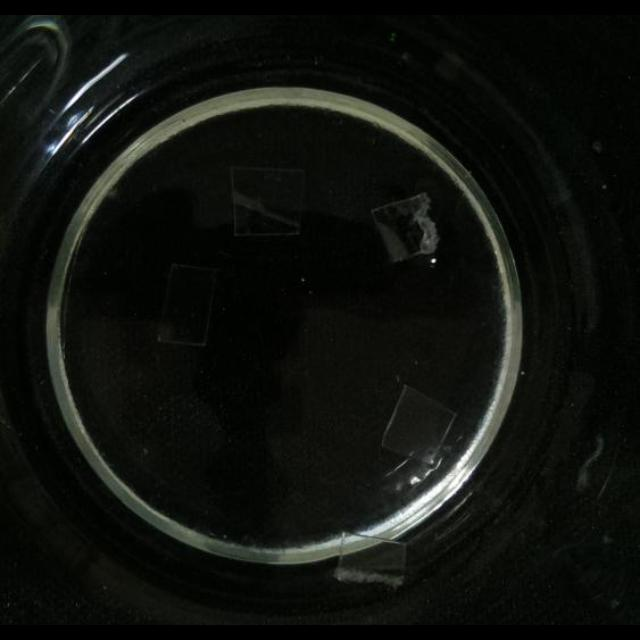Film: (378, 384, 458, 470), (229, 165, 309, 238), (157, 264, 219, 348), (368, 192, 440, 264), (331, 525, 412, 585)
